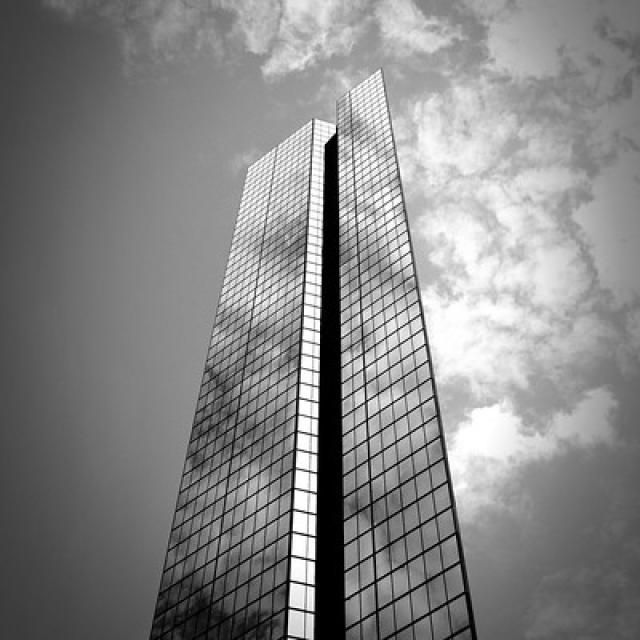building: (150, 64, 482, 637)
